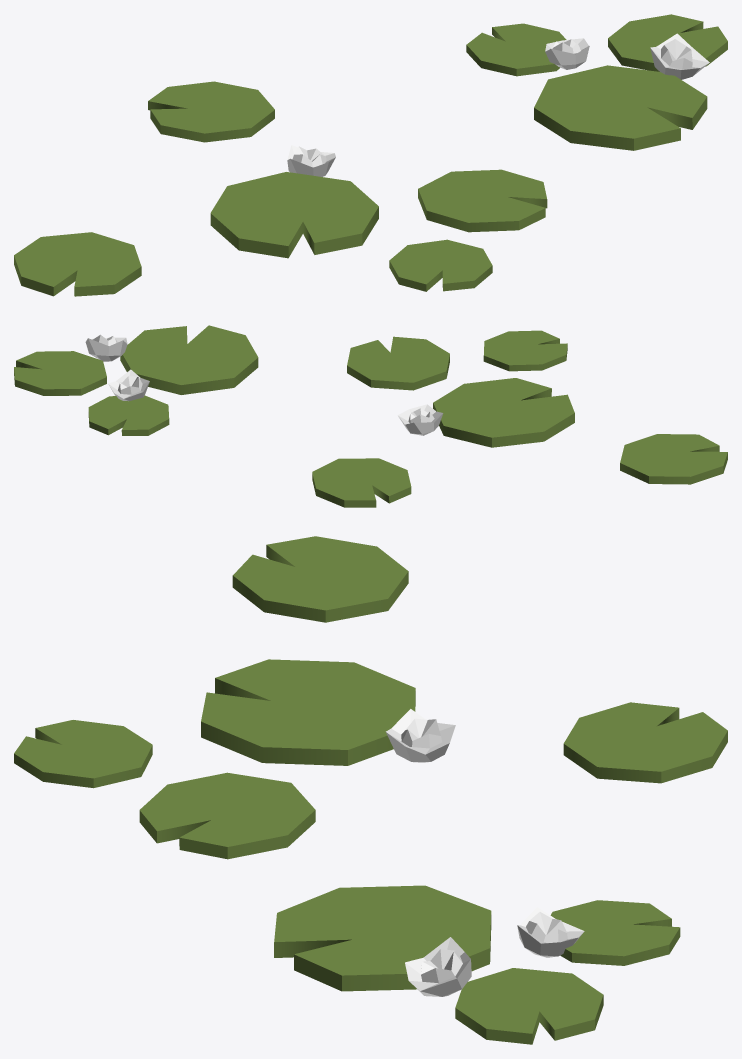
File: SM_Env_Lillypads_02.glb
3 renders of one model, top to bottom at view 1: azimuth 30°, elevation 25°; view 2: azimuth 150°, elevation 25°; view 3: azimuth 270°, elevation 25°, orthographic. The views are drawn at different scales.
Visible parts, largest first — view 1: SM_Env_Lillypads_02; view 2: SM_Env_Lillypads_02; view 3: SM_Env_Lillypads_02.
Part boxes in pixels (x1=…): SM_Env_Lillypads_02: x1=14, y1=14, x2=727, y2=296; SM_Env_Lillypads_02: x1=14, y1=325, x2=727, y2=507; SM_Env_Lillypads_02: x1=14, y1=536, x2=727, y2=1044.
Size of the model in its own units: 4.48 by 0.2116 by 2.73.
1 material, 1 textured.
